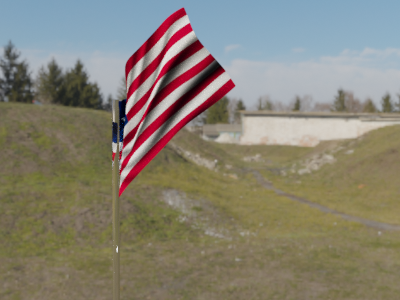Liberia flag: (114, 5, 236, 193)
